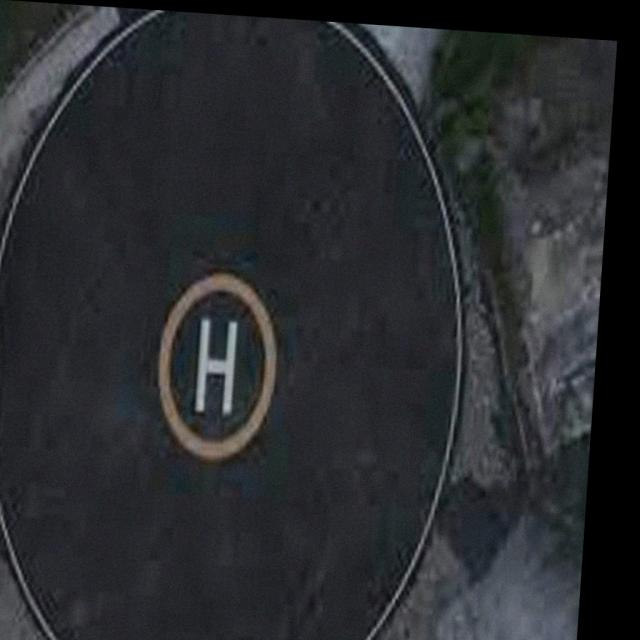helipad: (154, 268, 282, 464)
